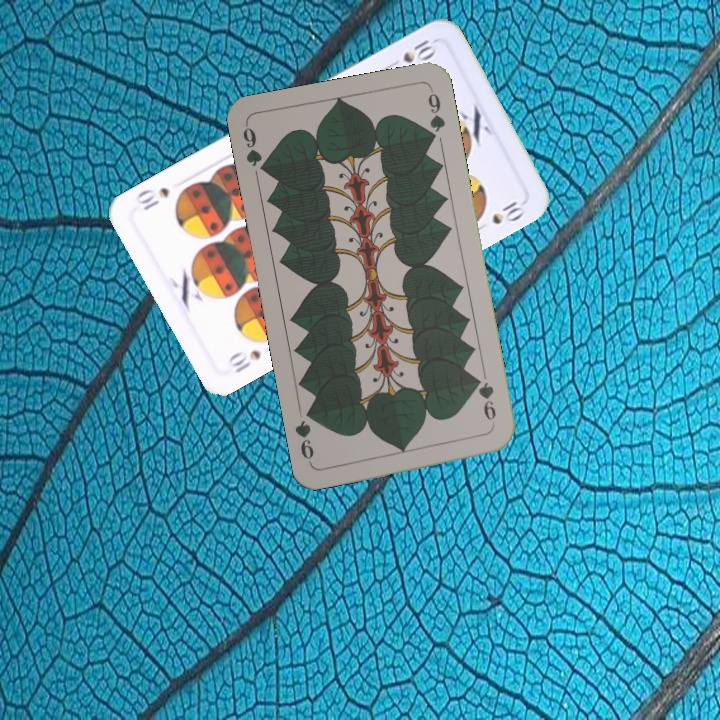G9: (238, 121, 271, 177), (471, 373, 499, 430)
S10: (384, 35, 440, 71), (224, 345, 264, 376)
